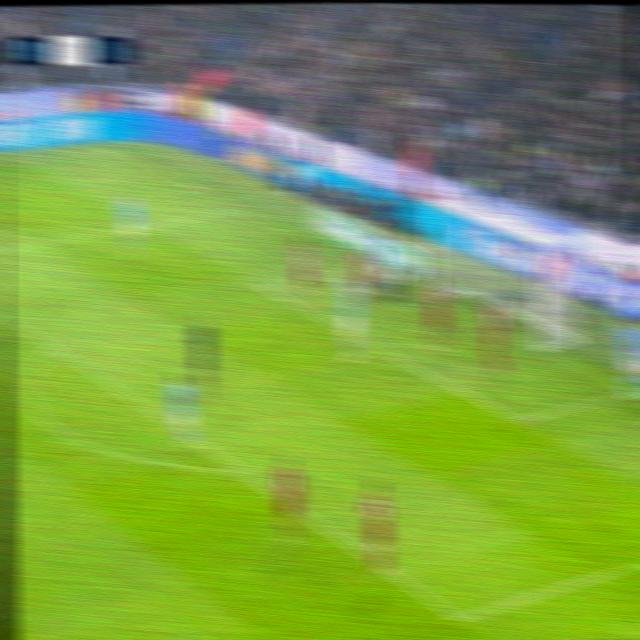bigarea_bottom_inner: (443, 603, 472, 633)
bigarea_top_outter: (231, 200, 250, 215)
bottom_arc_area_intersection: (226, 458, 251, 478)
corner: (102, 141, 126, 154)
smallarea_bottom_inner: (505, 408, 535, 432)
smallarea_bottom_outter: (615, 378, 640, 403)
smallarea_top_inner: (255, 278, 279, 297)
smallarea_top_outter: (353, 262, 378, 274)
top_arc_area_intersection: (43, 339, 68, 358)
